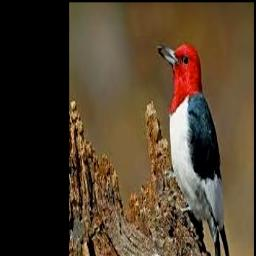Woodpecker: (158, 43, 230, 256)
